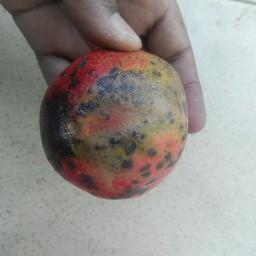Bad_pomegranate: (36, 42, 192, 202)
